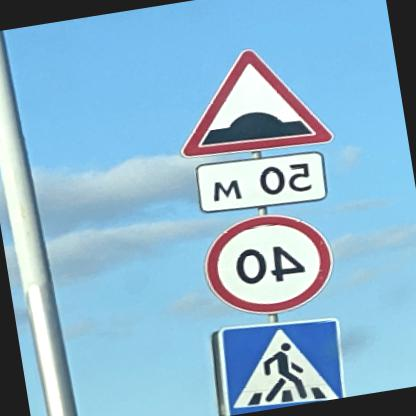crosswalk: (210, 307, 352, 414)
speedlimit: (199, 203, 343, 320)
